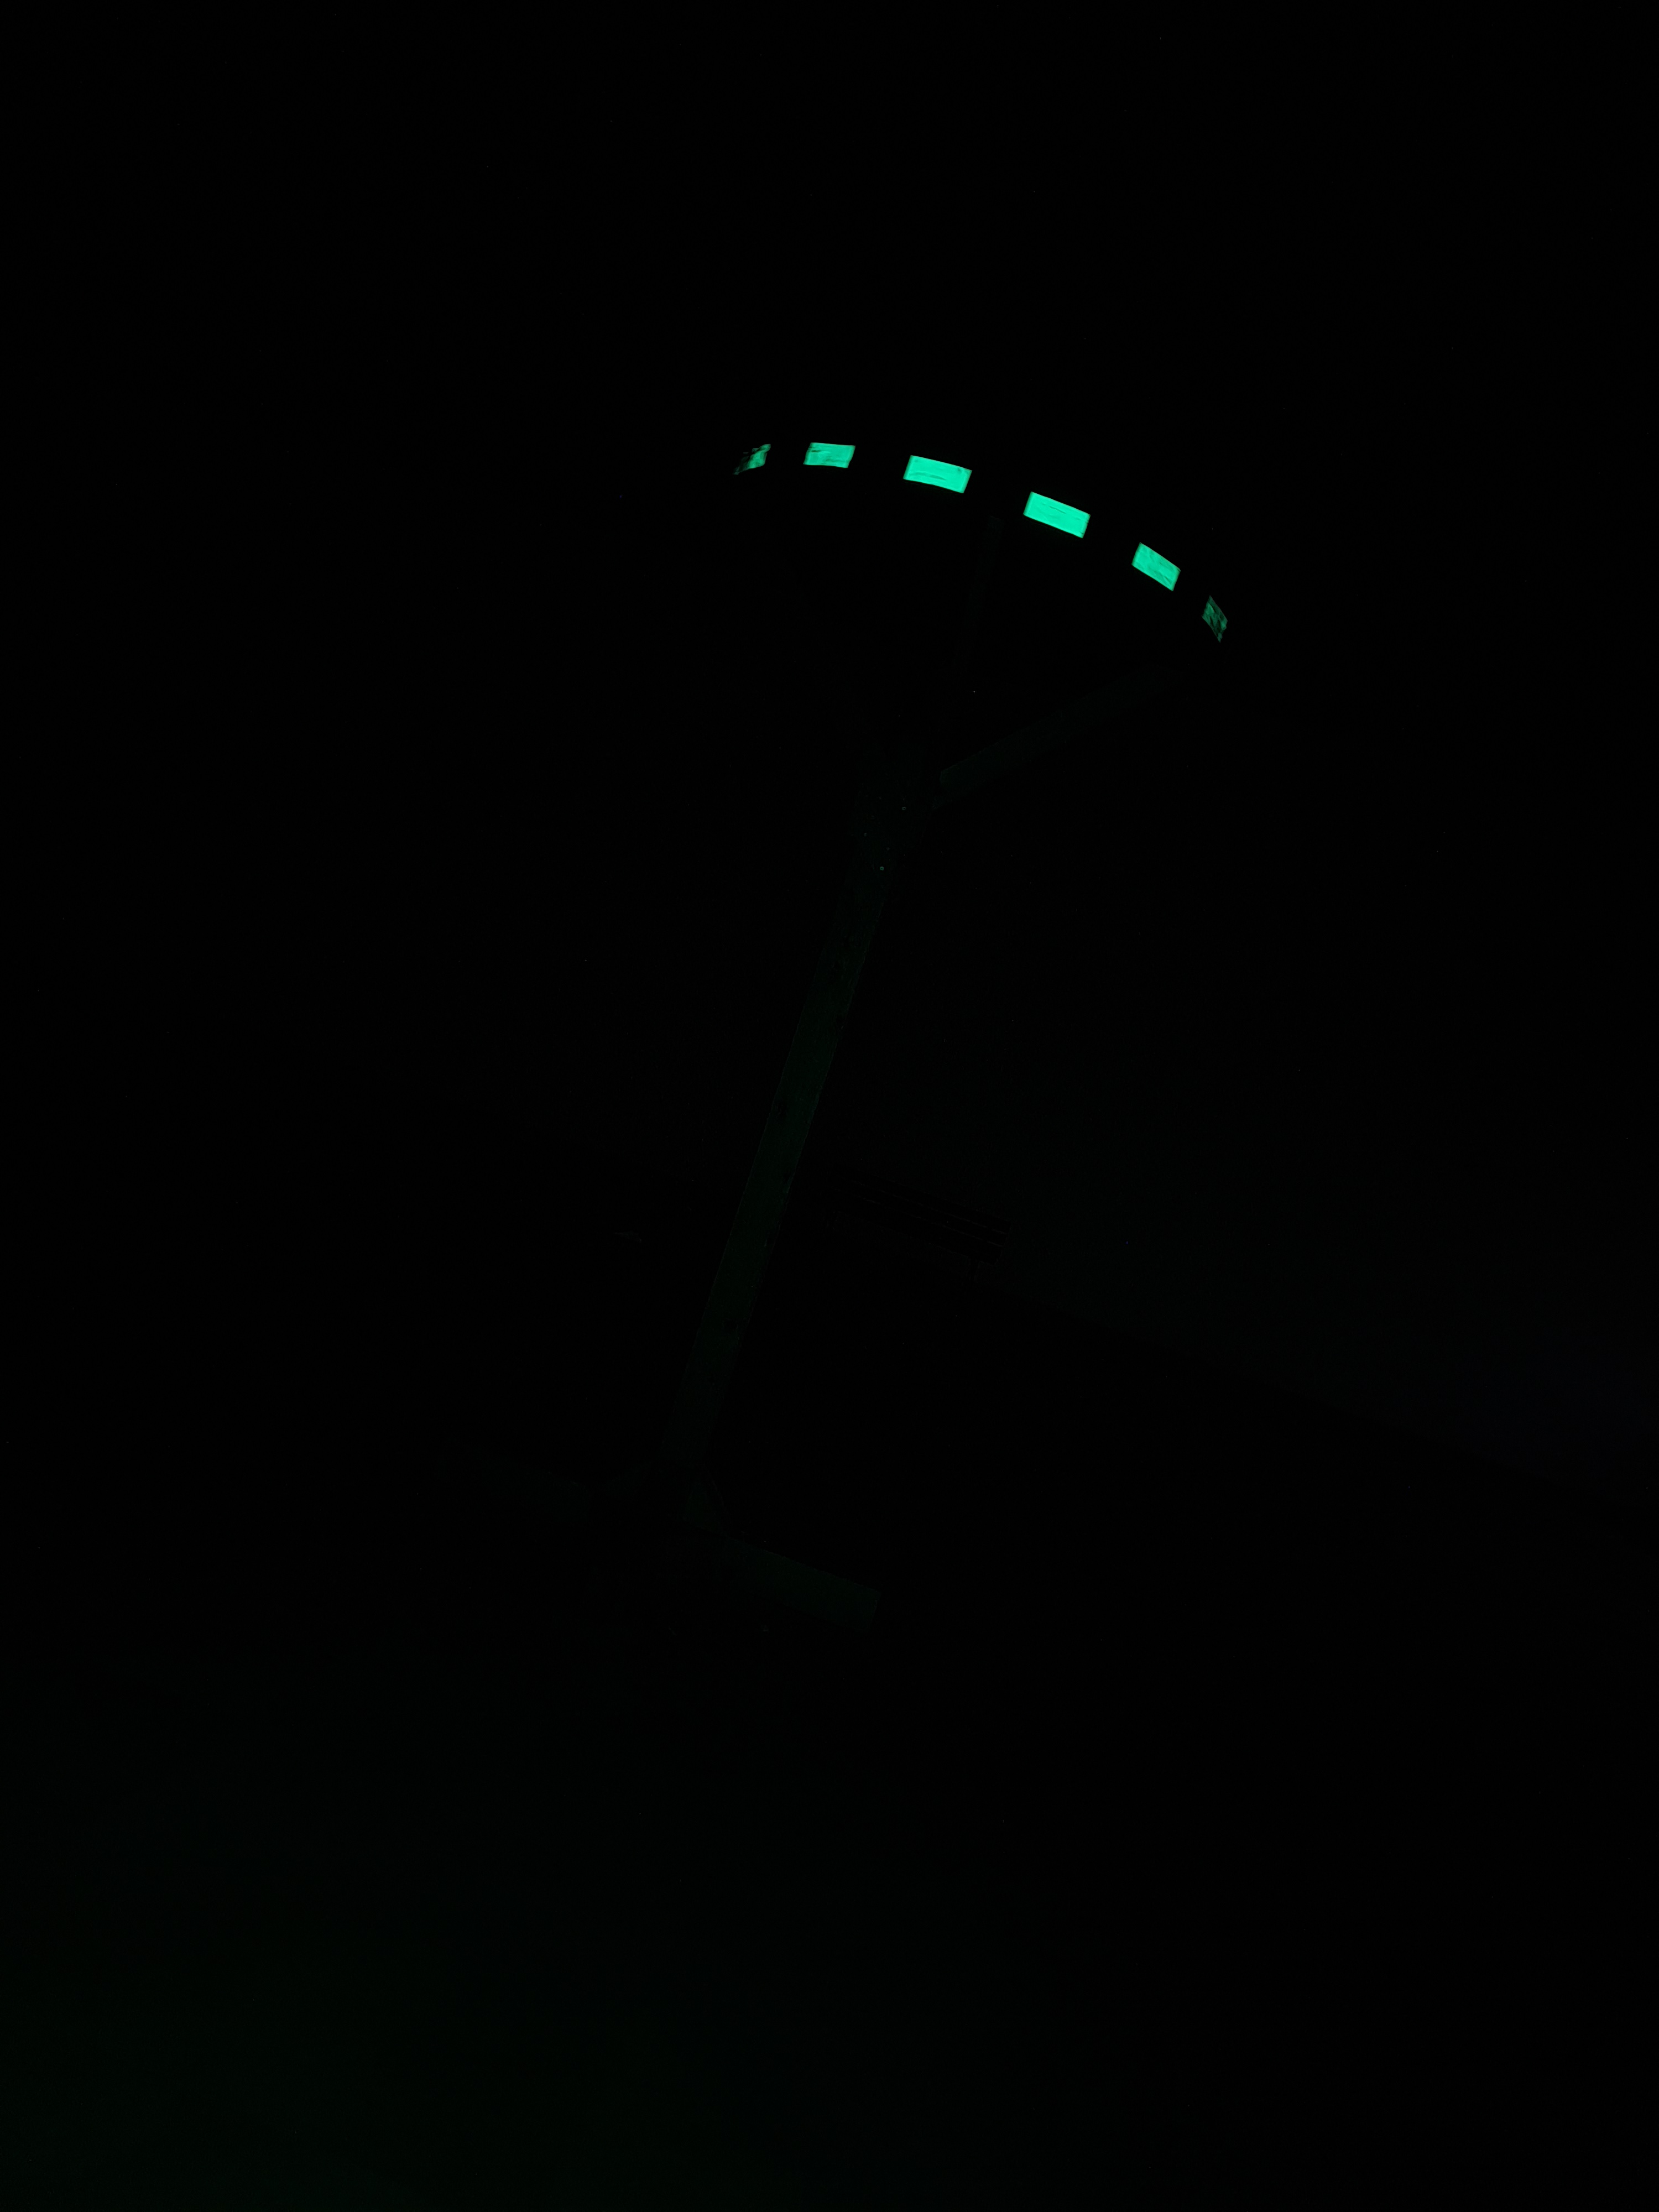hoop: (735, 435, 1230, 651)
